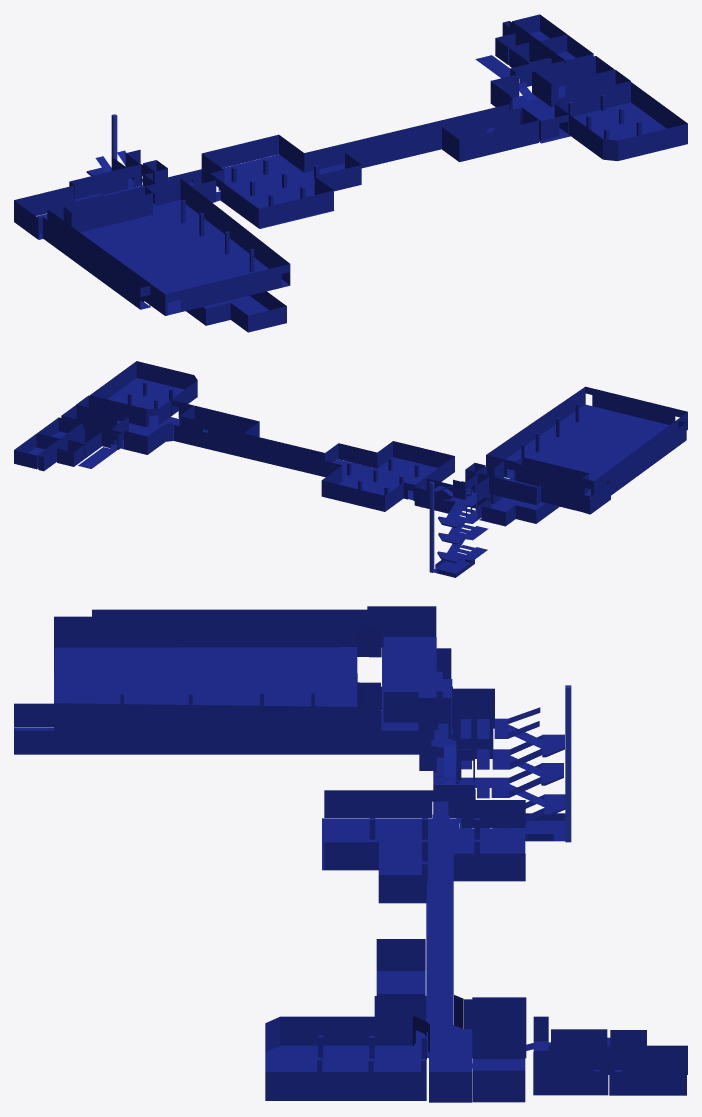
The model's file is lpm.fbx.
3 renders of one model, top to bottom at view 1: azimuth 30°, elevation 25°; view 2: azimuth 150°, elevation 25°; view 3: azimuth 270°, elevation 25°, orthographic. The views are drawn at different scales.
Visible parts, largest first — view 1: 4, 2; view 2: 4, 2, 0kopalka; view 3: 4, 2, 0kopalka.
Part boxes in pixels (left/top/right/bottom): 4: left=86, top=14, right=687, bottom=332; 2: left=14, top=149, right=290, bottom=315; 4: left=14, top=361, right=559, bottom=577; 2: left=434, top=386, right=687, bottom=520; 0kopalka: left=429, top=481, right=434, bottom=572; 4: left=14, top=686, right=687, bottom=1102; 2: left=54, top=606, right=542, bottom=781; 0kopalka: left=565, top=685, right=571, bottom=842.
Size of the model in its own units: 7769 by 1963 by 11596.
